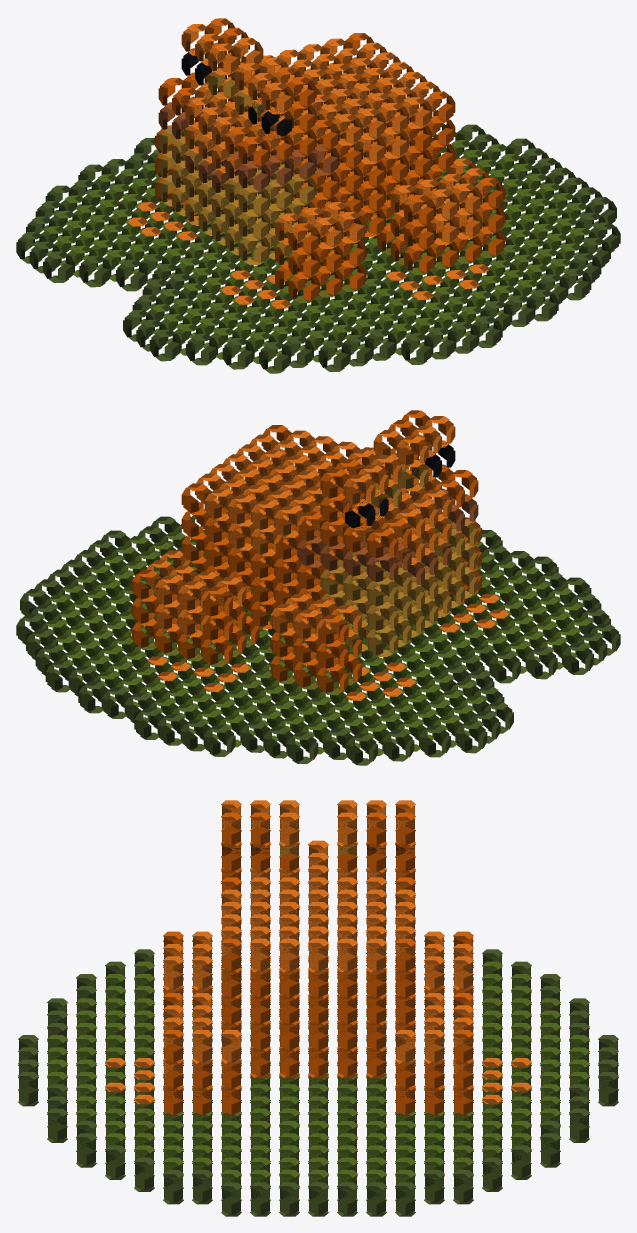
Rendered from La Estatua de la Rana.obj.
The picture shows the model from 3 angles, top to bottom: view 1: azimuth 30°, elevation 25°; view 2: azimuth 150°, elevation 25°; view 3: azimuth 270°, elevation 25°; orthographic projection. The views are drawn at different scales.
Parts seen in each view (by area): view 1: block_00039, block_00058, block_00146, block_00370, block_00051, block_00044, block_00075, block_00034, block_00031, block_00182, block_00212, block_00426 (+60 smaller); view 2: block_00029, block_00040, block_00045, block_00093, block_00166, block_00196, block_00303, block_00052, block_00035, block_00032, block_00059, block_00100 (+77 smaller); view 3: block_00775, block_00787, block_00704, block_00713, block_00788, block_00789, block_00797, block_00798, block_00760, block_00774, block_00799, block_00800 (+5 smaller).
Part boxes in pixels (x1,y1,x2,y2): block_00039: (79,255,111,287); block_00058: (222,337,254,369); block_00146: (318,340,350,371); block_00370: (401,333,433,364); block_00051: (116,259,147,291); block_00044: (186,333,217,365); block_00075: (259,341,290,373); block_00034: (149,329,181,361); block_00031: (43,251,74,282); block_00182: (208,43,240,75); block_00212: (261,82,293,114); block_00426: (424,327,456,359); block_00029: (455,721,487,753); block_00040: (525,647,557,679); block_00045: (382,729,414,761); block_00093: (286,732,318,763); block_00166: (343,474,375,506); block_00196: (396,435,428,467); block_00303: (203,725,235,756); block_00052: (489,651,520,683); block_00035: (419,725,450,757); block_00032: (562,643,593,674); block_00059: (346,733,377,765); block_00100: (366,625,398,657); block_00775: (482,1157,502,1191); block_00787: (134,1157,154,1191); block_00704: (395,1030,415,1064); block_00713: (221,1030,241,1064); block_00788: (453,1170,473,1204); block_00789: (424,1170,444,1204); block_00797: (192,1170,212,1204); block_00798: (163,1170,183,1204); block_00760: (511,1145,531,1179); block_00774: (105,1145,125,1179); block_00799: (395,1182,415,1216); block_00800: (366,1182,386,1216).
Bounding box in the file's own units: 21 × 9 × 21.
